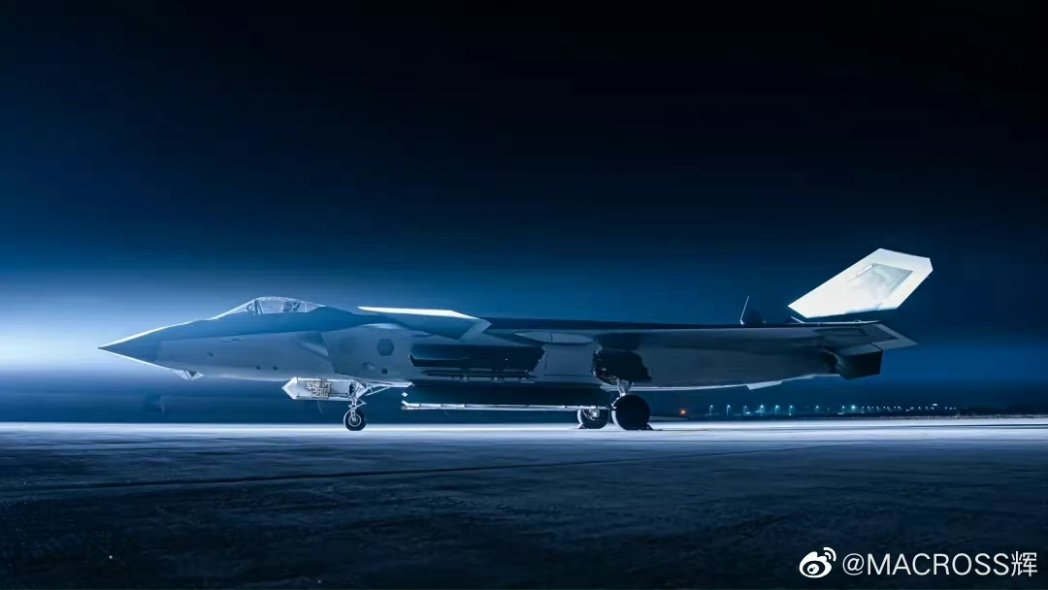J20: (97, 247, 934, 431)
